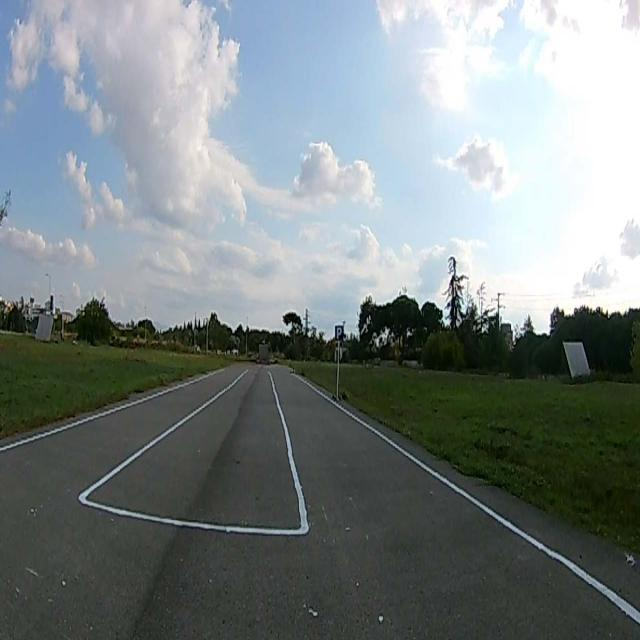park: (335, 323, 343, 341)
